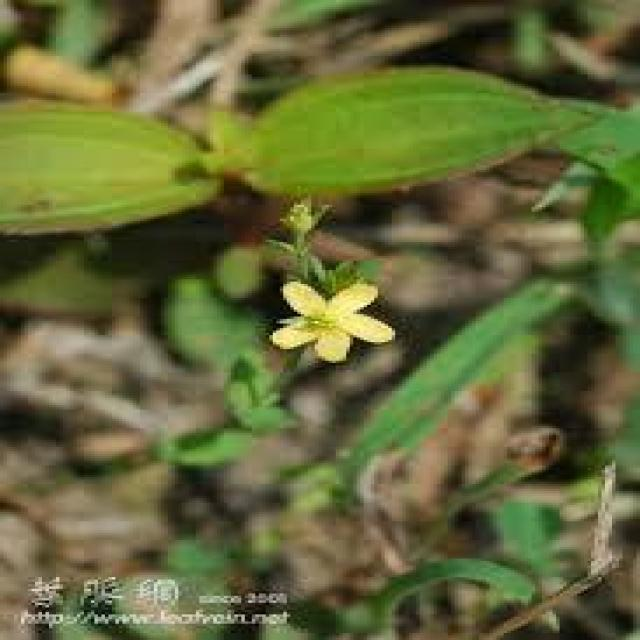organic waste: (269, 260, 427, 352)
